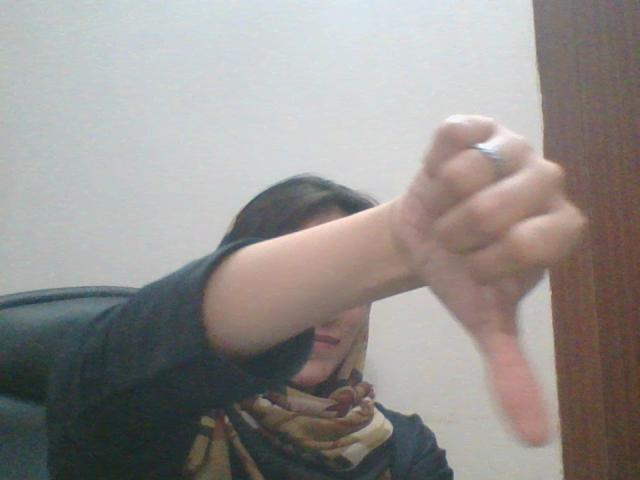thumbs-down: (413, 117, 584, 454)
